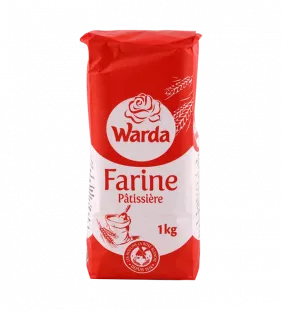LA ROSE BLANCHE: (71, 20, 212, 290)
